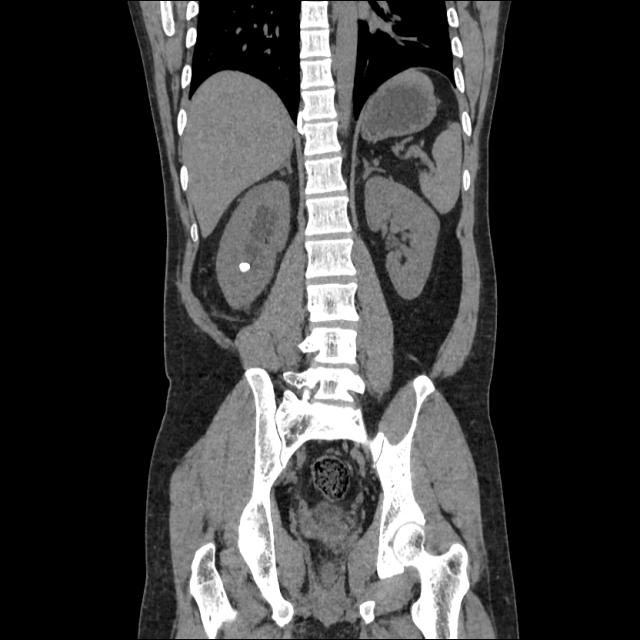kidney: (213, 180, 294, 313), (364, 174, 441, 301)
stone: (240, 260, 251, 273)
